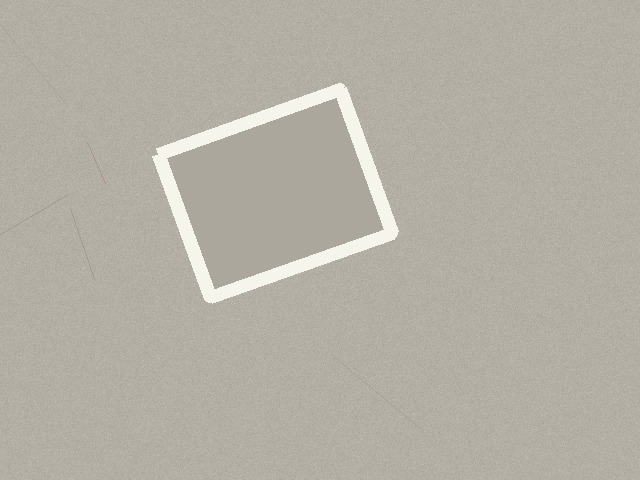parking_area: (158, 89, 392, 297)
